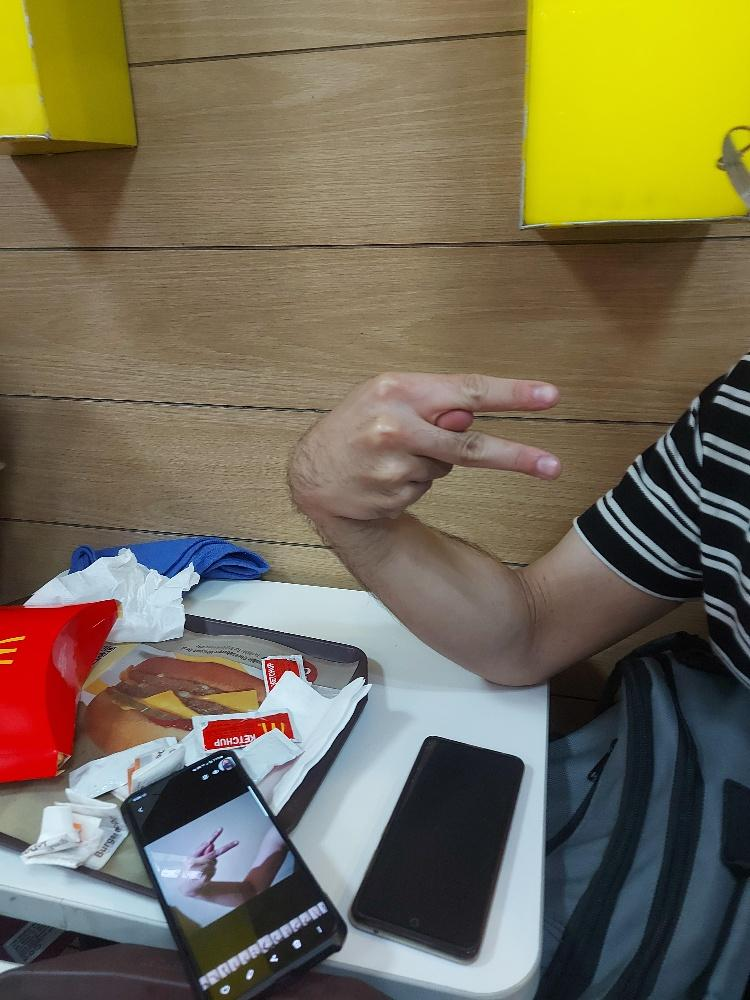k: (284, 366, 567, 524)
